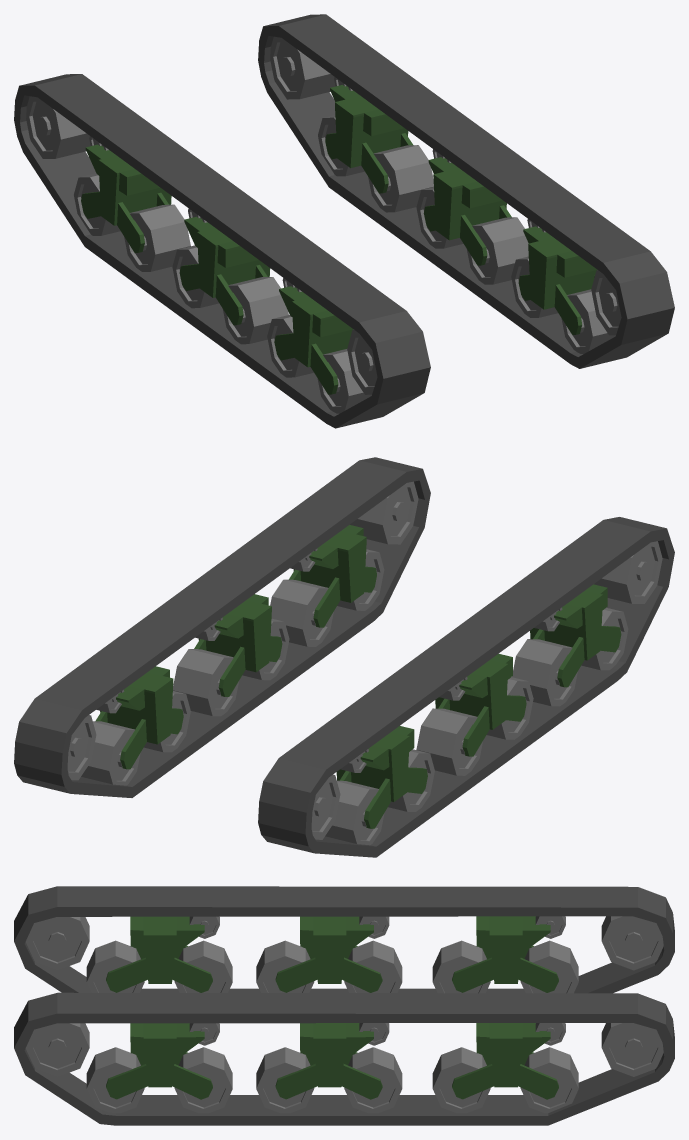
File: Sherman Tracks.fbx
3 views of the same model, one above another, from view 1: azimuth 30°, elevation 25°; view 2: azimuth 150°, elevation 25°; view 3: azimuth 270°, elevation 25° (orthographic). The views are drawn at different scales.
Visible parts, largest first — view 1: Tracks; view 2: Tracks; view 3: Tracks.
Boxes of the visible parts, x1,y1,x2,y2 form: Tracks: [14, 14, 674, 428]; Tracks: [14, 457, 674, 857]; Tracks: [14, 886, 674, 1125].
Size of the model in its own units: 3.36 by 1.37 by 7.34.
